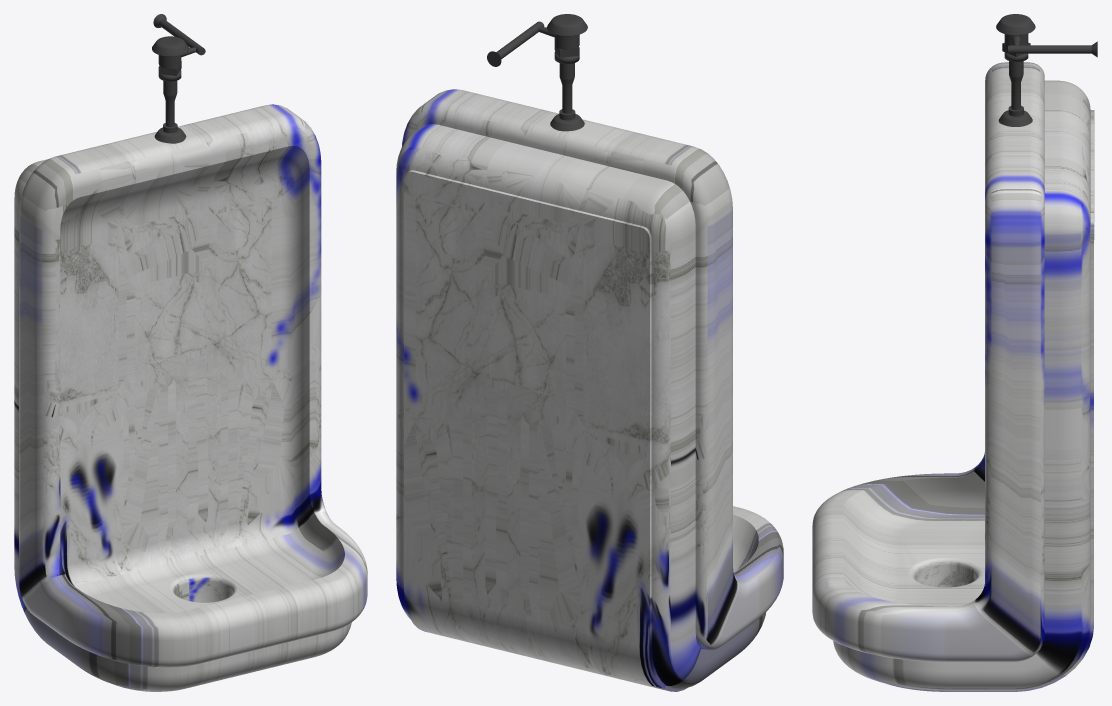
Rendered from uniral_v2.glb.
3 views of the same model, side by side, from view 1: azimuth 30°, elevation 25°; view 2: azimuth 150°, elevation 25°; view 3: azimuth 270°, elevation 25° (orthographic). The views are drawn at different scales.
Parts seen in each view (by area): view 1: Plane.003, Cylinder.001, Cylinder.005, Cylinder.007; view 2: Plane.003, Cylinder.001, Cylinder.007, Cylinder.005; view 3: Plane.003, Cylinder.007, Cylinder.001, Cylinder.005.
Part boxes in pixels (left/top/right/bottom): Plane.003: left=14, top=104, right=367, bottom=691; Cylinder.001: left=163, top=80, right=177, bottom=132; Cylinder.005: left=152, top=36, right=188, bottom=56; Cylinder.007: left=153, top=14, right=205, bottom=57; Plane.003: left=396, top=89, right=783, bottom=691; Cylinder.001: left=559, top=63, right=575, bottom=120; Cylinder.007: left=487, top=21, right=554, bottom=66; Cylinder.005: left=547, top=14, right=587, bottom=36; Plane.003: left=812, top=62, right=1094, bottom=691; Cylinder.007: left=1008, top=36, right=1097, bottom=57; Cylinder.001: left=1008, top=61, right=1023, bottom=116; Cylinder.005: left=996, top=14, right=1035, bottom=35.
Size of the model in its own units: 0.371 by 0.7245 by 0.3042.
Materials: 2 (1 with a texture image).
